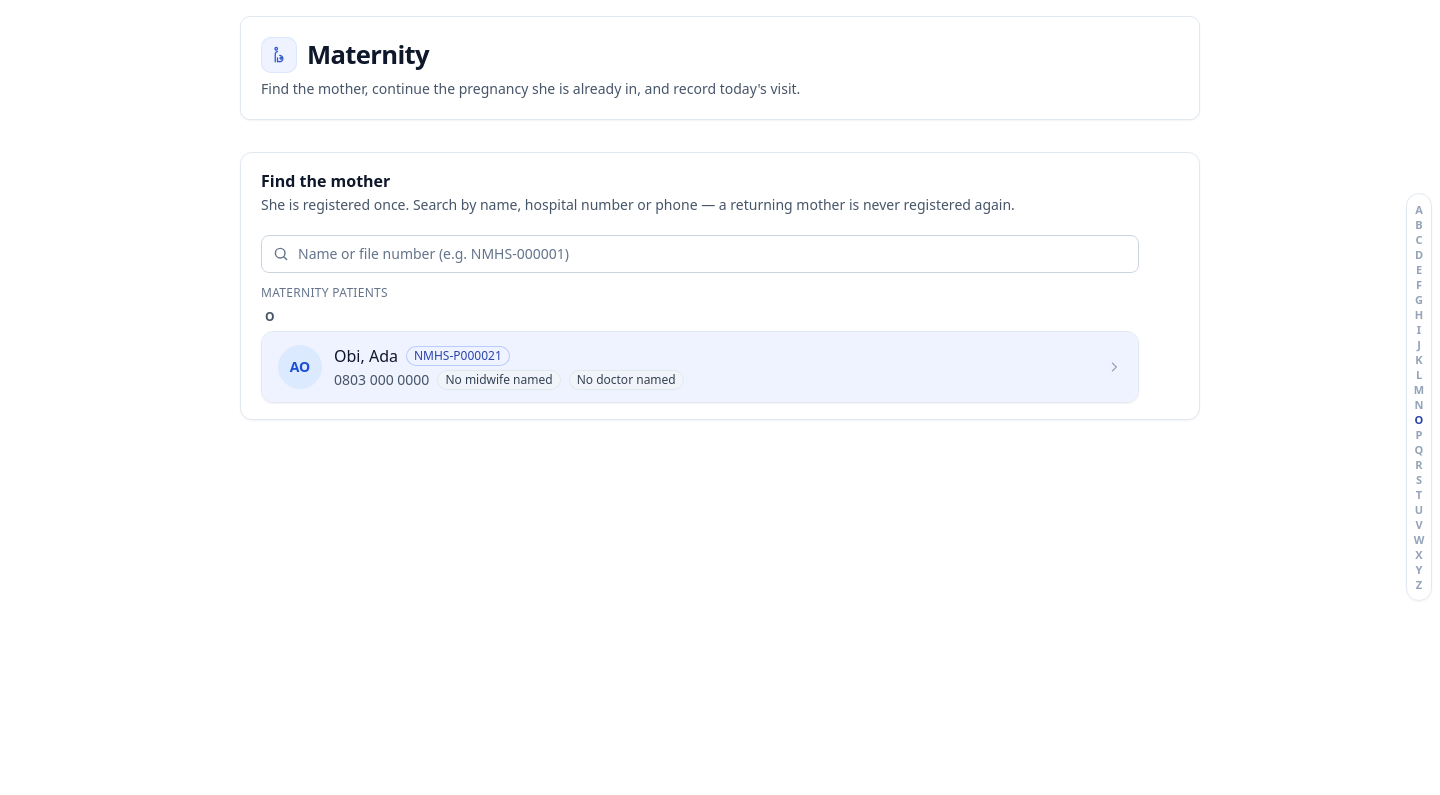
twins in the workspace › states the delivery → newborn relationship on the Deliveries tab
Click the dropdown named "Search maternity patients" at {"x": 700, "y": 254}, box [261,235,1139,273]
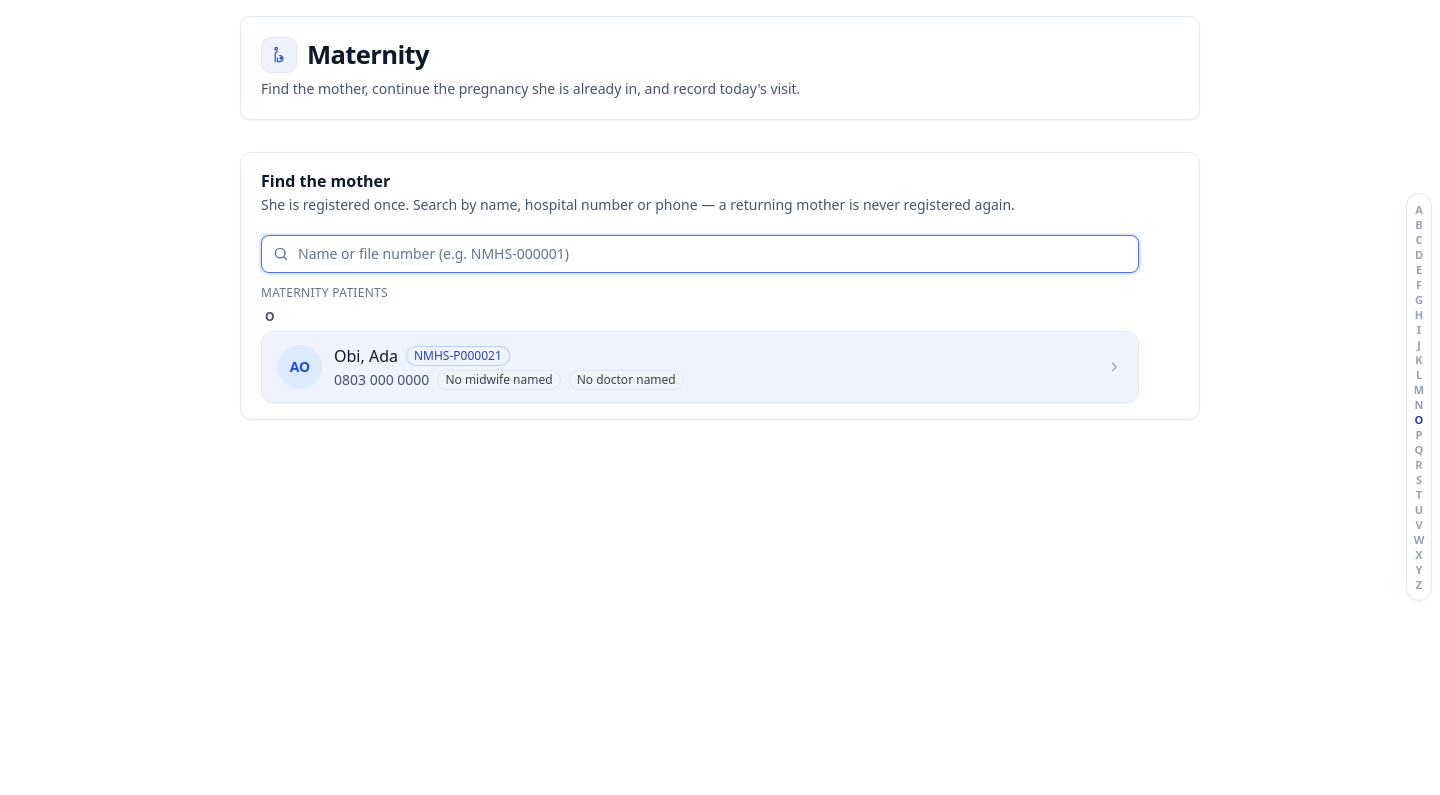
Click the option "Obi, Ada" at {"x": 300, "y": 367}, box [262,332,1138,402]
(page scrolled)
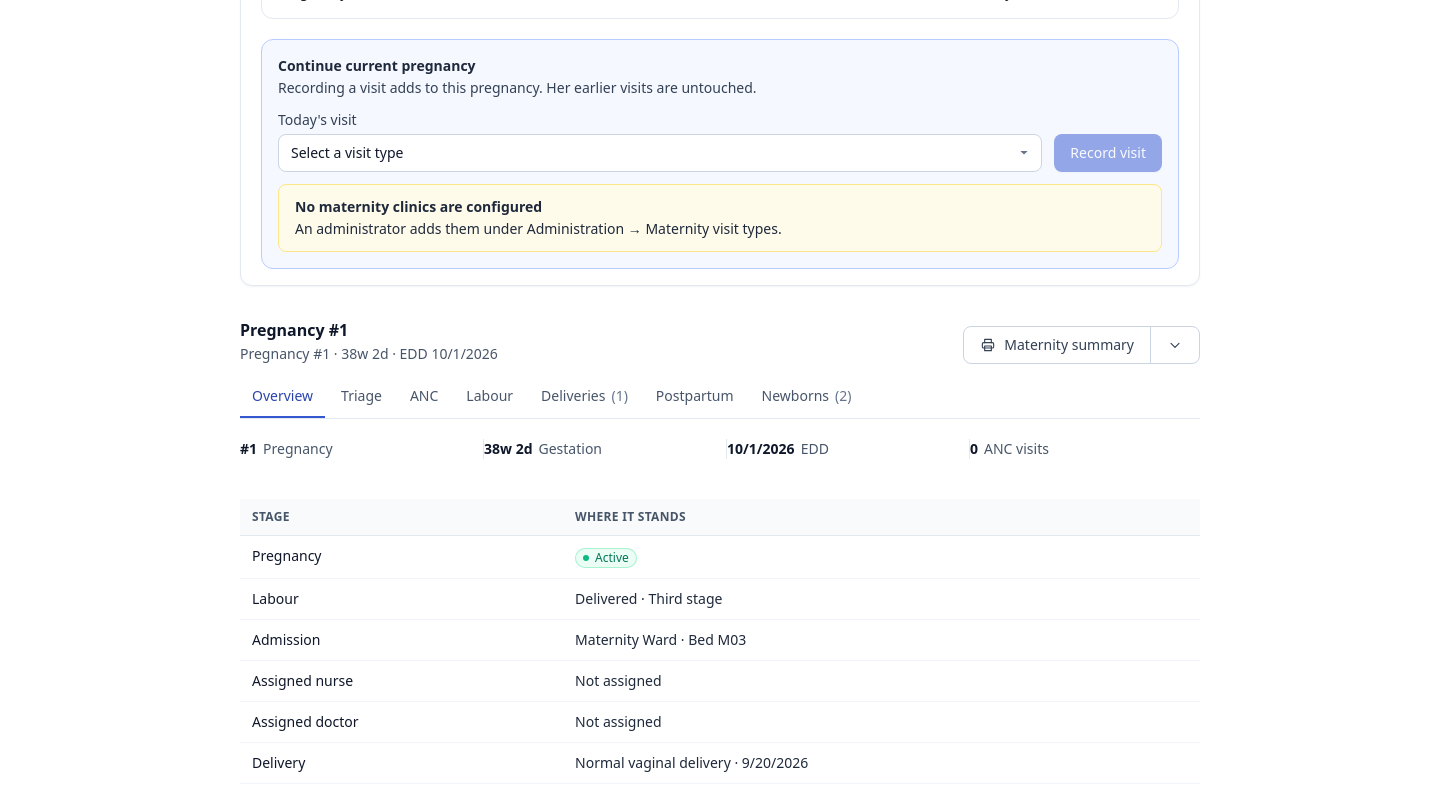
Click the button "Deliveries(1)" at {"x": 584, "y": 397}, box [529,376,640,418]
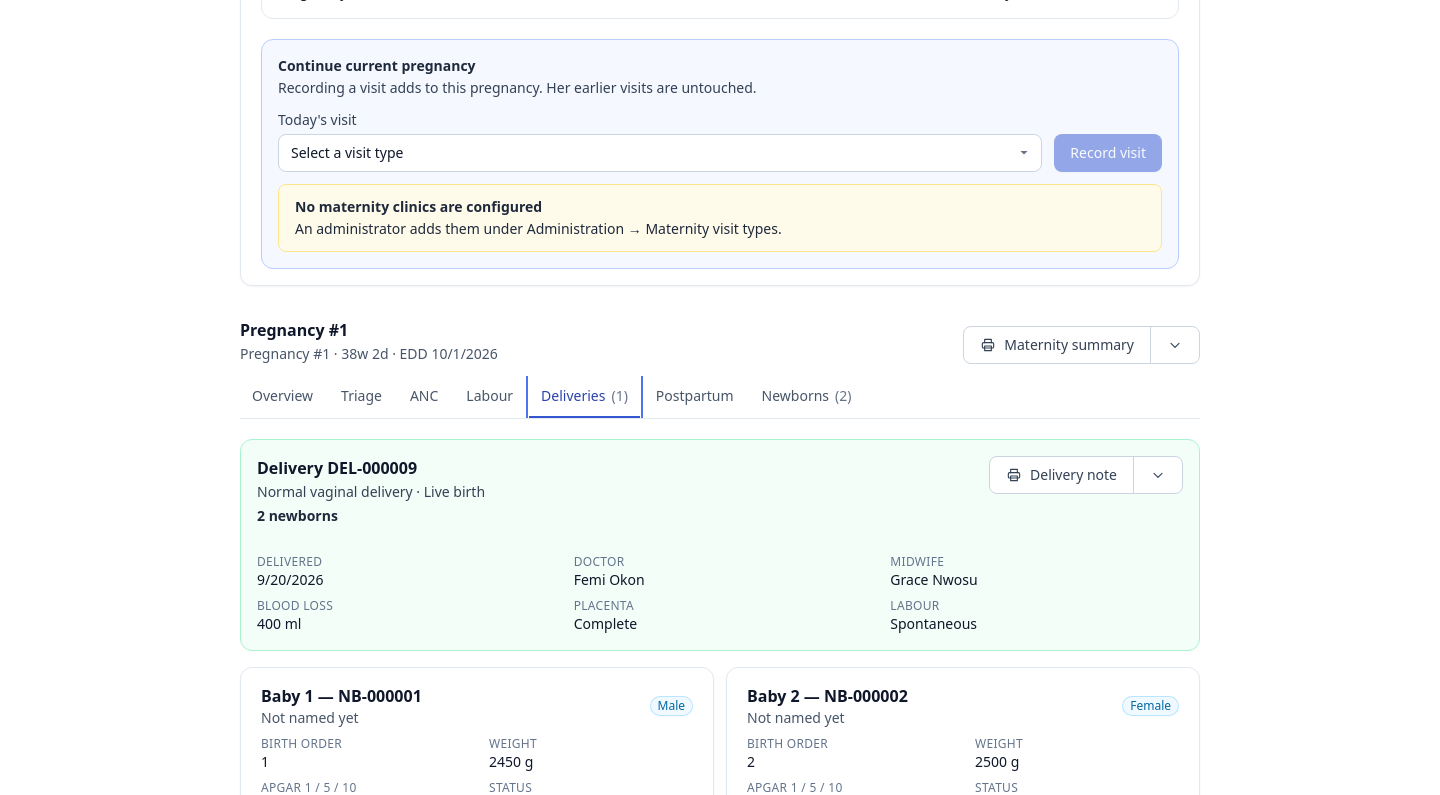
Check: the text "Delivery DEL-000009" is shown, box [257,457,417,479]
Check: the text "2 newborns" is shown, box [257,506,338,525]
Check: the text "Baby 1 — NB-000001" is shown, box [261,684,422,708]
